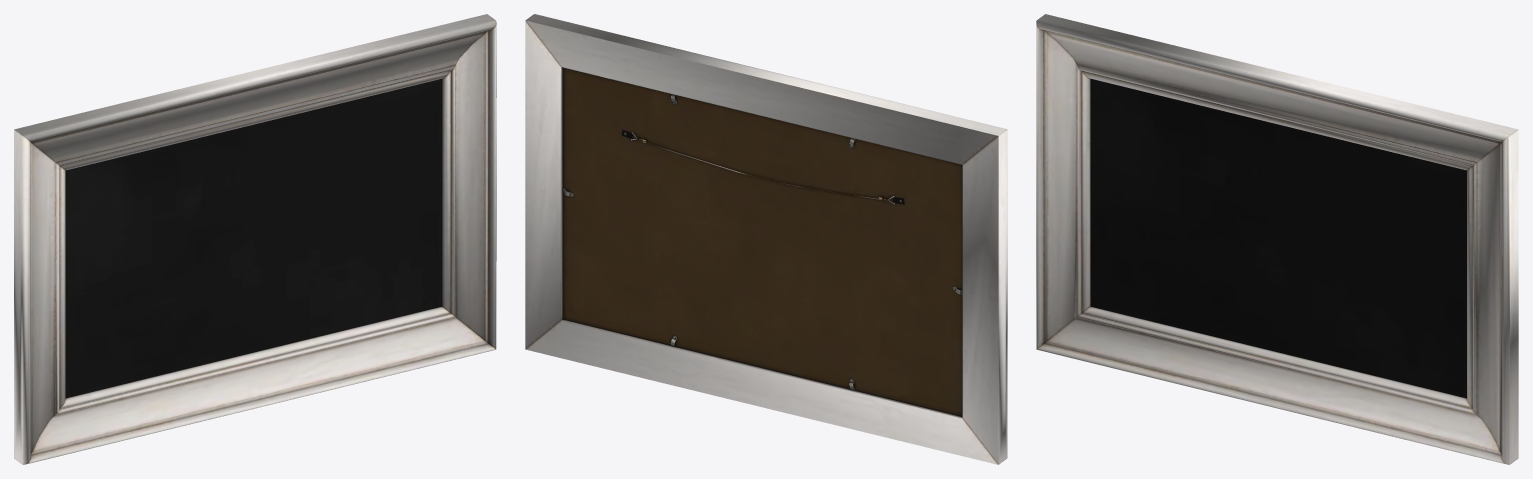
Rendered from hanging_picture_frame_02.glb.
The picture shows the model from 3 angles, left to right: view 1: azimuth 30°, elevation 25°; view 2: azimuth 150°, elevation 25°; view 3: azimuth 330°, elevation 25°; orthographic projection.
Parts seen in each view (by area): view 1: hanging_picture_frame_02; view 2: hanging_picture_frame_02; view 3: hanging_picture_frame_02.
Boxes of the visible parts, bbox=[...] form: hanging_picture_frame_02: bbox=[14, 14, 496, 464]; hanging_picture_frame_02: bbox=[525, 14, 1007, 464]; hanging_picture_frame_02: bbox=[1036, 14, 1518, 464].
Bounding box in the file's own units: 0.7512 × 0.4988 × 0.0322.
3 materials, 3 textured.
